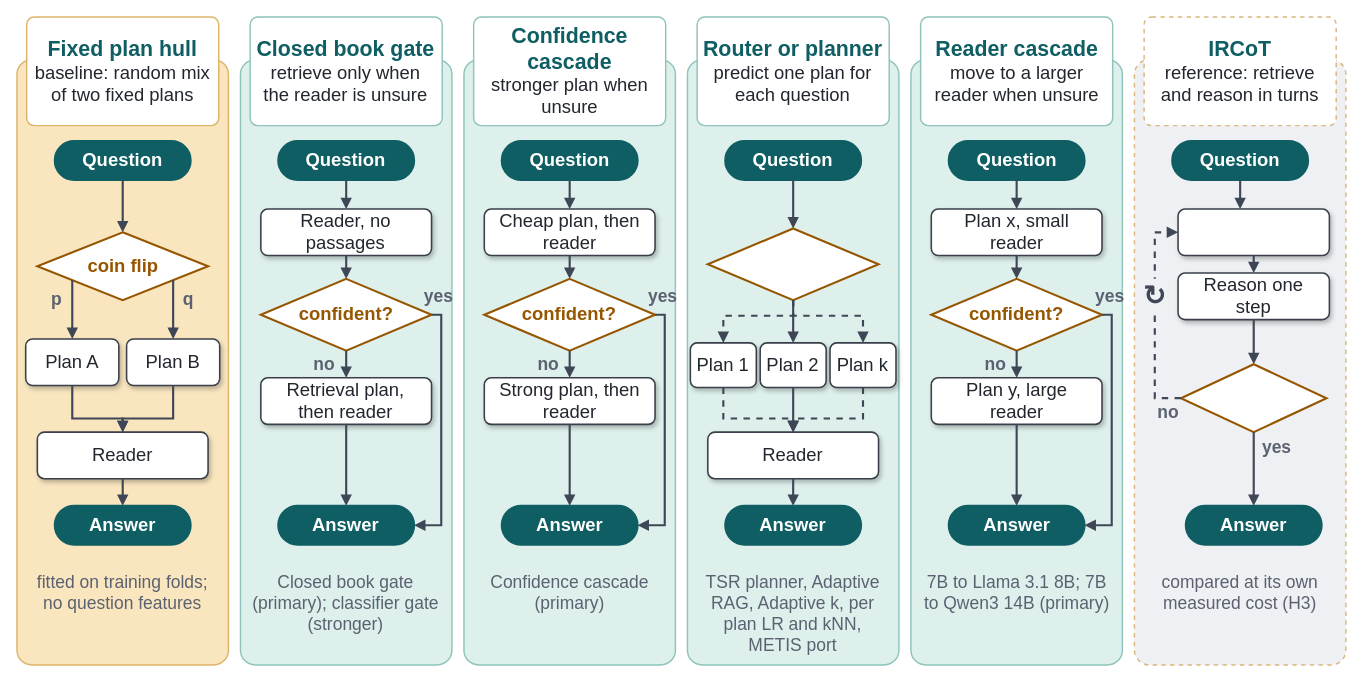
This 1364x683 diagram has some shape labels left out. The shapes that lost their labels are listed below. From the top down, each one's centre as x and y in pixels, then its label:
At pixel 1254 233: "Retrieve (BM25)".
At pixel 792 264: "pick a plan".
At pixel 1253 398: "answer?".
